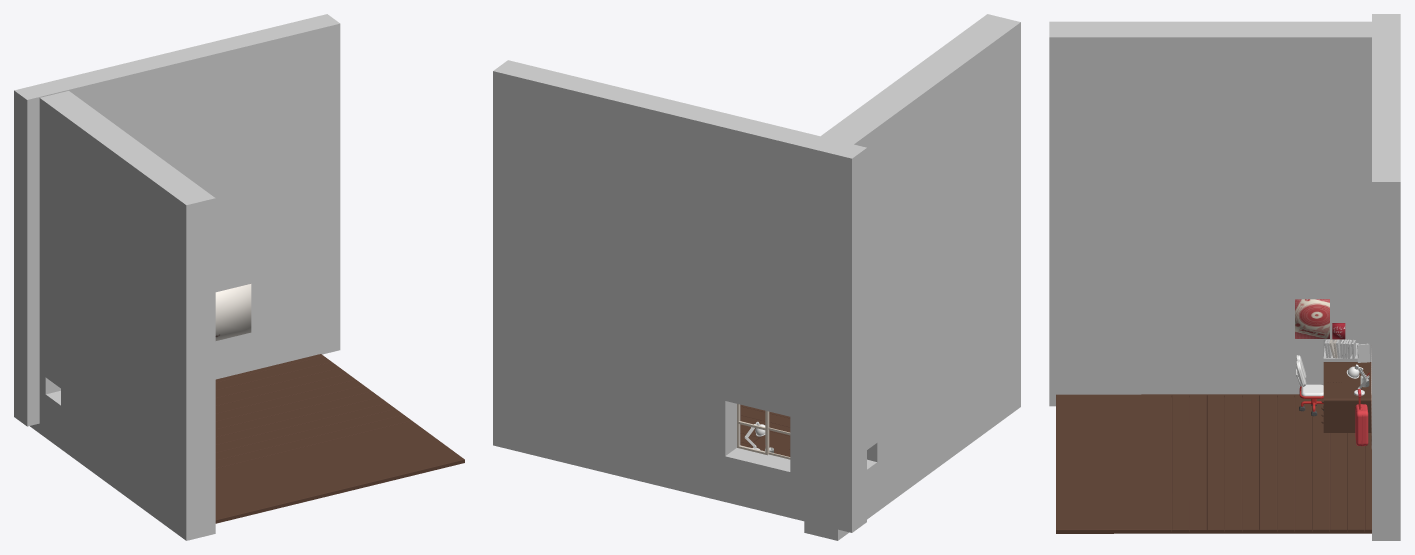
The model's file is full4.glb.
3 views of the same model, side by side, from view 1: azimuth 30°, elevation 25°; view 2: azimuth 150°, elevation 25°; view 3: azimuth 270°, elevation 25° (orthographic). The views are drawn at different scales.
Parts seen in each view (by area): view 1: 큐브.002, 큐브.001, Body64, Body152; view 2: 큐브.001, 큐브.002, Body64; view 3: 큐브.002, Body64, 큐브.001, Body57, Body136.
Part boxes in pixels (x1,y1,x2,y2): 큐브.002: (30,91,215,540); 큐브.001: (14,14,340,426); Body64: (215,354,464,523); Body152: (215,283,251,340); 큐브.001: (493,60,866,532); 큐브.002: (804,14,1020,540); Body64: (740,404,790,446); 큐브.002: (1049,21,1371,406); Body64: (1056,394,1371,533); 큐브.001: (1372,14,1400,540); Body57: (1323,362,1371,432); Body136: (1295,299,1329,338).
Bounding box in the file's own units: 0.9062 × 0.9306 × 0.8009.
Materials: 12 (4 with a texture image).
